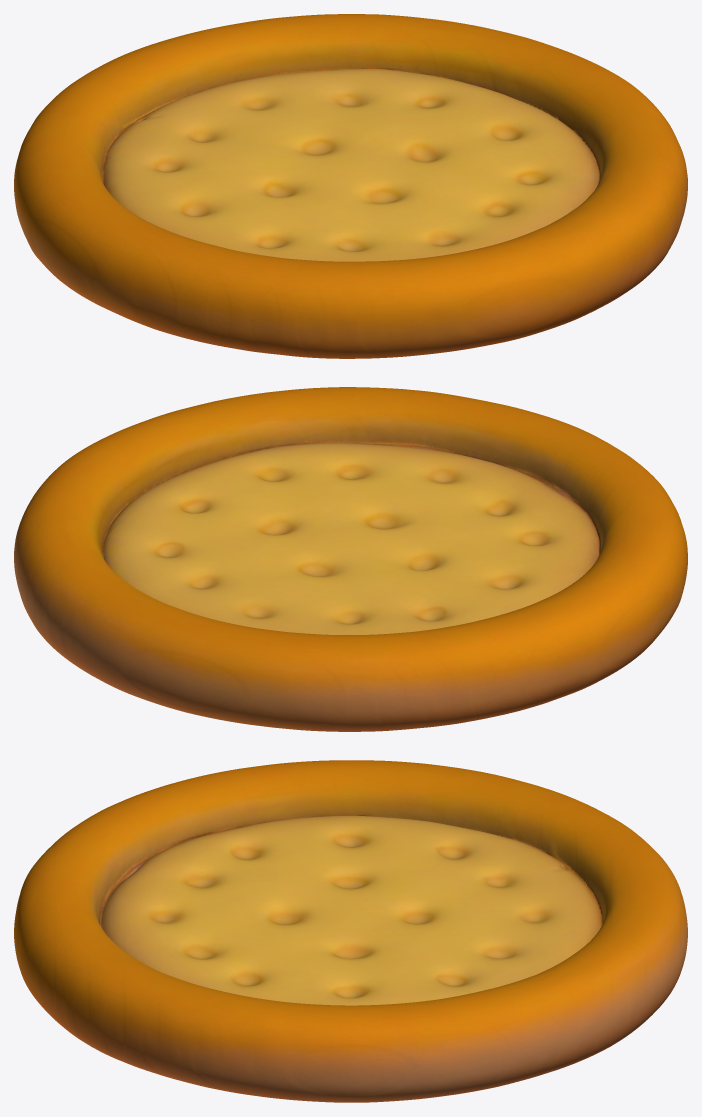
Rendered from tripo_convert_69edbff8-55e8-48af-bb8e-c503abdb6093.fbx.
3 views of the same model, one above another, from view 1: azimuth 30°, elevation 25°; view 2: azimuth 150°, elevation 25°; view 3: azimuth 270°, elevation 25° (orthographic).
Visible parts, largest first — view 1: tripo_node_69edbff8; view 2: tripo_node_69edbff8; view 3: tripo_node_69edbff8.
Boxes of the visible parts, left/top/right/bottom form: tripo_node_69edbff8: left=14, top=14, right=687, bottom=358; tripo_node_69edbff8: left=14, top=387, right=687, bottom=731; tripo_node_69edbff8: left=14, top=760, right=687, bottom=1102.
Size of the model in its own units: 0.9998 by 0.1409 by 1.
